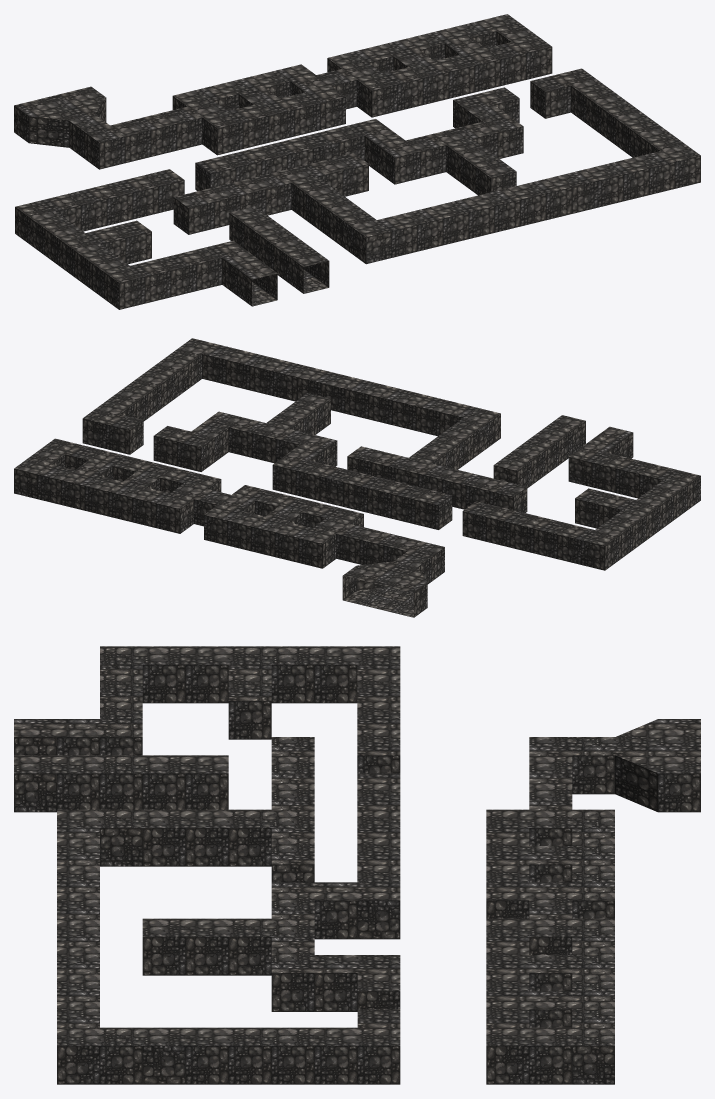
File: Room002_Deep_Plats.FBX
3 renders of one model, top to bottom at view 1: azimuth 30°, elevation 25°; view 2: azimuth 150°, elevation 25°; view 3: azimuth 270°, elevation 25°, orthographic. The views are drawn at different scales.
Parts seen in each view (by area): view 1: Box05; view 2: Box05; view 3: Box05.
Part boxes in pixels (box(x1,y1,x2,y2)): Box05: box(14, 14, 700, 309); Box05: box(14, 338, 700, 617); Box05: box(14, 646, 700, 1084).
Bounding box in the file's own units: 2200 × 100 × 1600.
Materials: 1 (1 with a texture image).
